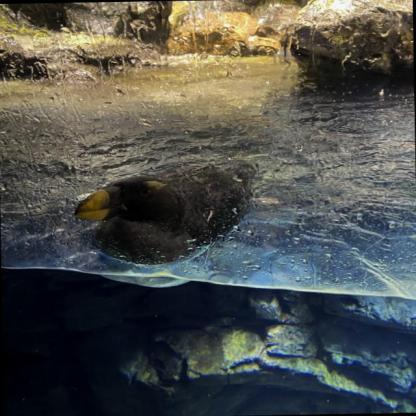puffin: (71, 150, 262, 290)
